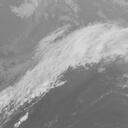cyclone: (38, 40, 80, 77)
